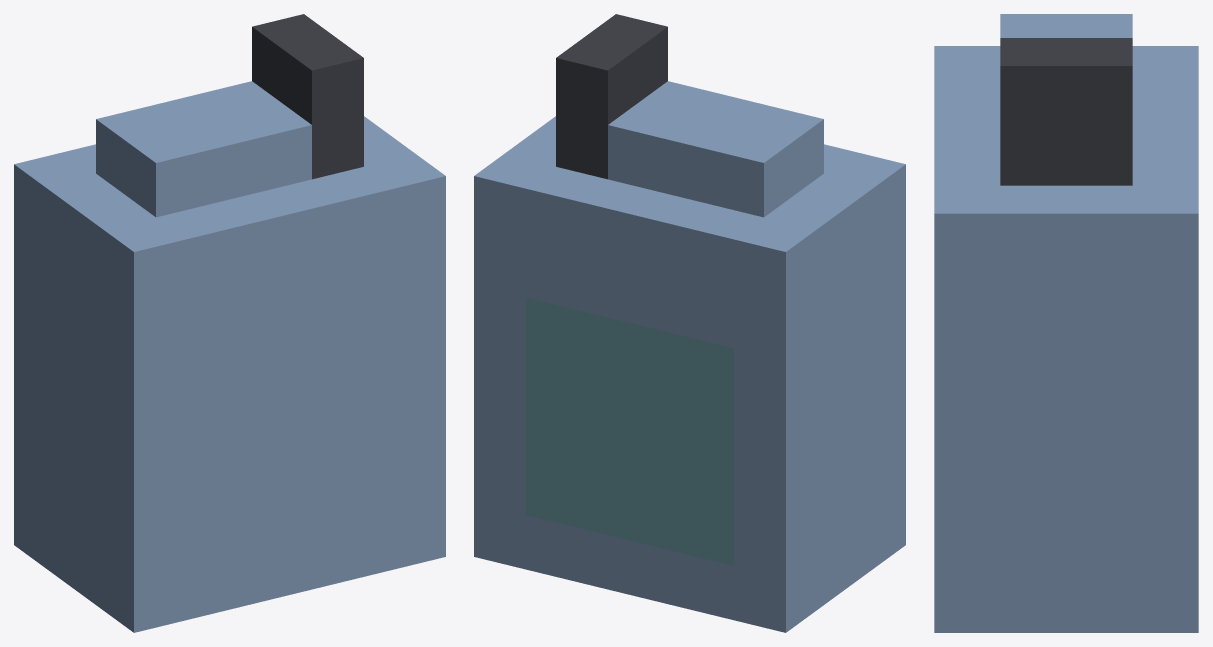
The model's file is bidon_plein.glb.
3 views of the same model, side by side, from view 1: azimuth 30°, elevation 25°; view 2: azimuth 150°, elevation 25°; view 3: azimuth 270°, elevation 25° (orthographic). The views are drawn at different scales.
Visible parts, largest first — view 1: main; view 2: main; view 3: main.
Part boxes in pixels (x1,y1,x2,y2): main: (14,14,445,632); main: (474,14,905,632); main: (934,14,1198,632).
Size of the model in its own units: 0.375 by 0.5625 by 0.25.
